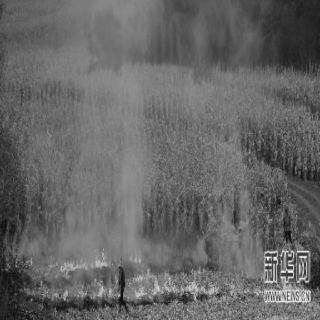Fire: (19, 251, 225, 303), (252, 276, 306, 300), (230, 276, 237, 300)
Smoke: (71, 200, 105, 247), (231, 224, 240, 260)
